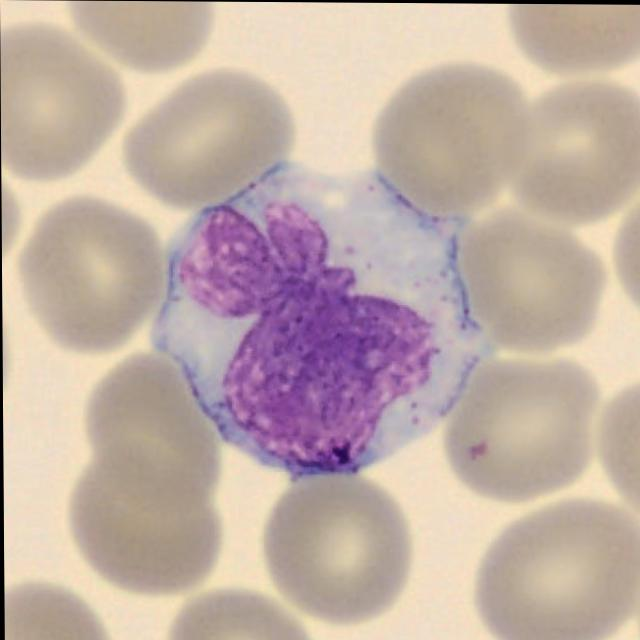Linfocito atipico: (153, 163, 491, 481)
